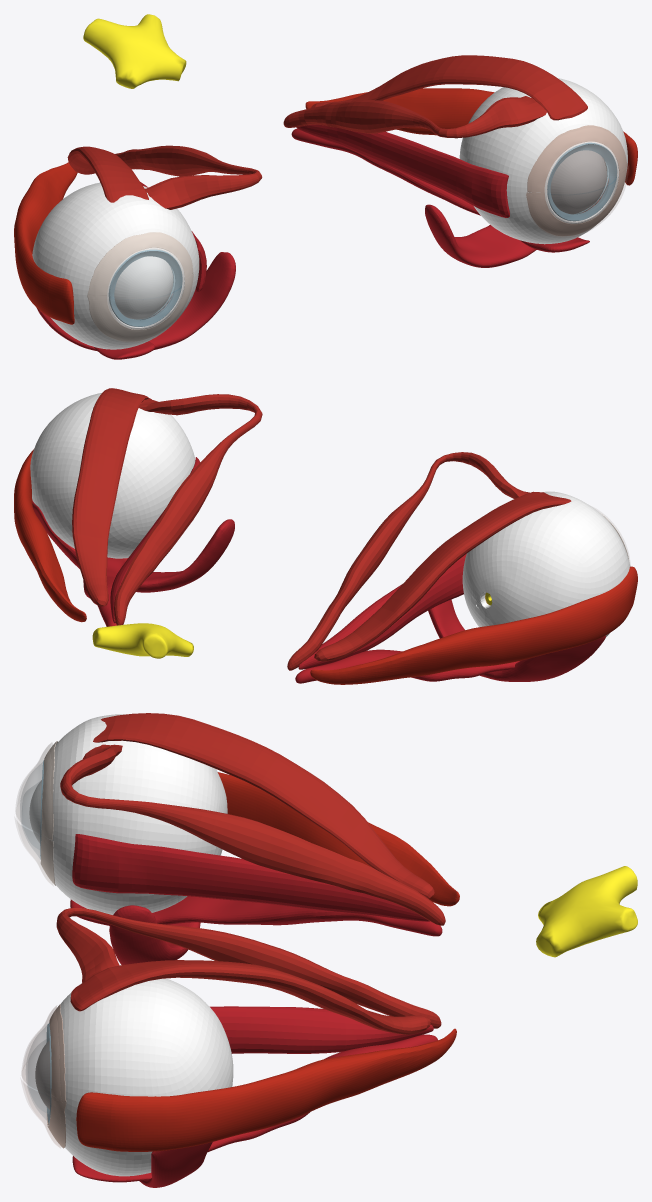
The model's file is sensory.glb.
3 renders of one model, top to bottom at view 1: azimuth 30°, elevation 25°; view 2: azimuth 150°, elevation 25°; view 3: azimuth 270°, elevation 25°, orthographic. The views are drawn at different scales.
Visible parts, largest first — view 1: f-right-sclera, f-left-sclera, f-left-medial-rectus, f-left-superior-rectus, f-left-superior-oblique, f-right-lateral-rectus, f-right-superior-oblique, palpebral-conjunctiva-of-right-upper-eyelid, palpebral-conjunctiva-of-left-upper-eyelid, optic-chiasma, f-right-cornea, right-bulbar-conjunctiva (+14 smaller); view 2: f-right-sclera, f-left-sclera, f-right-lateral-rectus, f-left-superior-rectus, f-left-superior-oblique, f-right-superior-rectus, f-right-superior-oblique, f-left-lateral-rectus, f-right-inferior-oblique, f-right-medial-rectus, optic-chiasma, f-left-inferior-oblique (+3 smaller); view 3: f-left-sclera, f-left-lateral-rectus, f-right-sclera, f-right-medial-rectus, f-right-superior-rectus, f-right-superior-oblique, f-left-superior-oblique, f-left-superior-rectus, f-left-medial-rectus, optic-chiasma, f-right-lateral-rectus, f-right-inferior-rectus (+12 smaller).
Part boxes in pixels (x1=…): f-right-sclera: x1=32, y1=182, x2=199, y2=349; f-left-sclera: x1=459, y1=78, x2=627, y2=244; f-left-medial-rectus: x1=296, y1=124, x2=509, y2=217; f-left-superior-rectus: x1=311, y1=55, x2=587, y2=120; f-left-superior-oblique: x1=283, y1=96, x2=546, y2=138; f-right-lateral-rectus: x1=14, y1=162, x2=77, y2=324; f-right-superior-oblique: x1=115, y1=145, x2=262, y2=209; palpebral-conjunctiva-of-right-upper-eyelid: x1=90, y1=234, x2=193, y2=298; palpebral-conjunctiva-of-left-upper-eyelid: x1=527, y1=128, x2=627, y2=193; optic-chiasma: x1=83, y1=14, x2=186, y2=88; f-right-cornea: x1=109, y1=250, x2=181, y2=326; right-bulbar-conjunctiva: x1=87, y1=232, x2=193, y2=341; f-right-sclera: x1=462, y1=491, x2=630, y2=636; f-left-sclera: x1=30, y1=393, x2=195, y2=558; f-right-lateral-rectus: x1=310, y1=566, x2=637, y2=684; f-left-superior-rectus: x1=72, y1=388, x2=151, y2=606; f-left-superior-oblique: x1=114, y1=394, x2=262, y2=625; f-right-superior-rectus: x1=314, y1=491, x2=571, y2=661; f-right-superior-oblique: x1=287, y1=452, x2=529, y2=670; f-left-lateral-rectus: x1=14, y1=449, x2=86, y2=622; f-right-inferior-oblique: x1=428, y1=599, x2=605, y2=681; f-right-medial-rectus: x1=298, y1=553, x2=466, y2=669; optic-chiasma: x1=92, y1=623, x2=193, y2=658; f-left-inferior-oblique: x1=32, y1=500, x2=234, y2=592; f-left-sclera: x1=48, y1=978, x2=233, y2=1176; f-left-lateral-rectus: x1=76, y1=1028, x2=456, y2=1151; f-right-sclera: x1=40, y1=714, x2=227, y2=914; f-right-medial-rectus: x1=72, y1=834, x2=429, y2=921; f-right-superior-rectus: x1=93, y1=713, x2=434, y2=898; f-right-superior-oblique: x1=60, y1=744, x2=445, y2=925; f-left-superior-oblique: x1=56, y1=907, x2=441, y2=1028; f-left-superior-rectus: x1=70, y1=960, x2=430, y2=1034; f-left-medial-rectus: x1=210, y1=1006, x2=433, y2=1053; optic-chiasma: x1=536, y1=866, x2=637, y2=957; f-right-lateral-rectus: x1=217, y1=772, x2=459, y2=906; f-right-inferior-rectus: x1=70, y1=896, x2=442, y2=936.
Bounding box in the file's own units: 0.0994 × 0.0296 × 0.0752.
